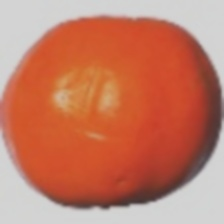tangerine: (45, 27, 204, 224)
